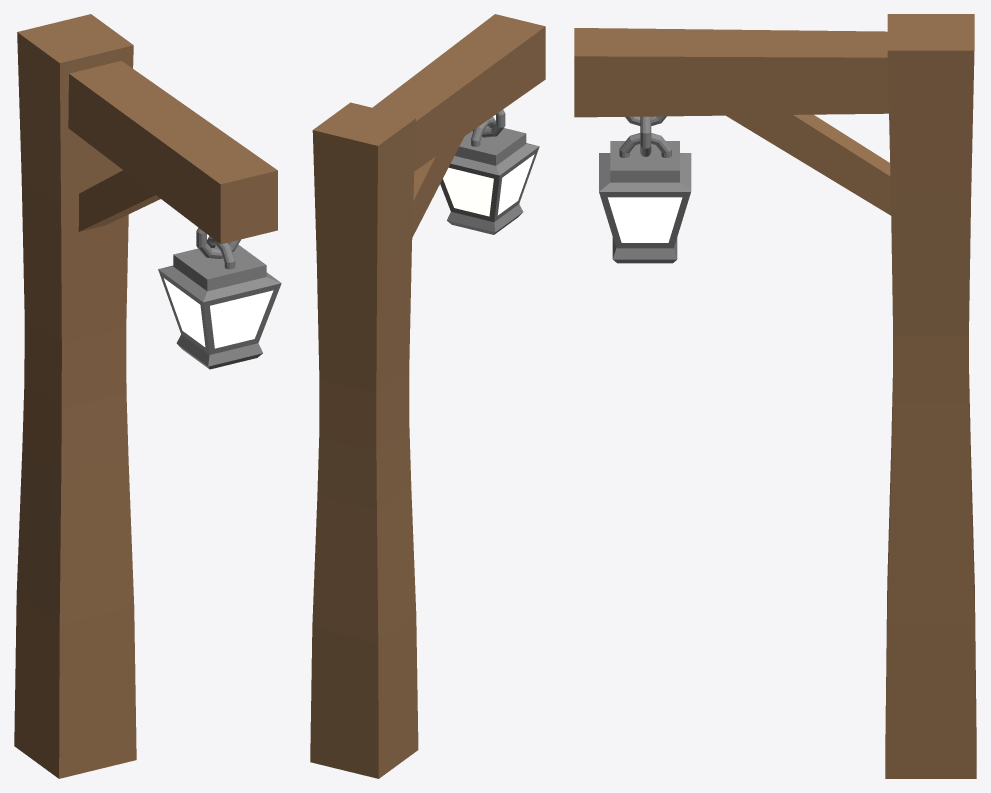
The model's file is LampPost.fbx.
The picture shows the model from 3 angles, left to right: view 1: azimuth 30°, elevation 25°; view 2: azimuth 150°, elevation 25°; view 3: azimuth 270°, elevation 25°; orthographic projection. The views are drawn at different scales.
Parts seen in each view (by area): view 1: Cylinder, Cube, Torus; view 2: Cylinder, Cube, Torus; view 3: Cylinder, Cube, Torus.
Part boxes in pixels (x1,y1,x2,y2): Cylinder: (14,14,136,778); Cube: (68,61,277,244); Torus: (158,227,281,369); Cylinder: (310,102,418,778); Cube: (372,14,545,237); Torus: (440,109,539,234); Cylinder: (885,14,976,778); Cube: (574,28,891,215); Torus: (599,116,691,263).
Bounding box in the file's own units: 211 × 1760 × 882.
